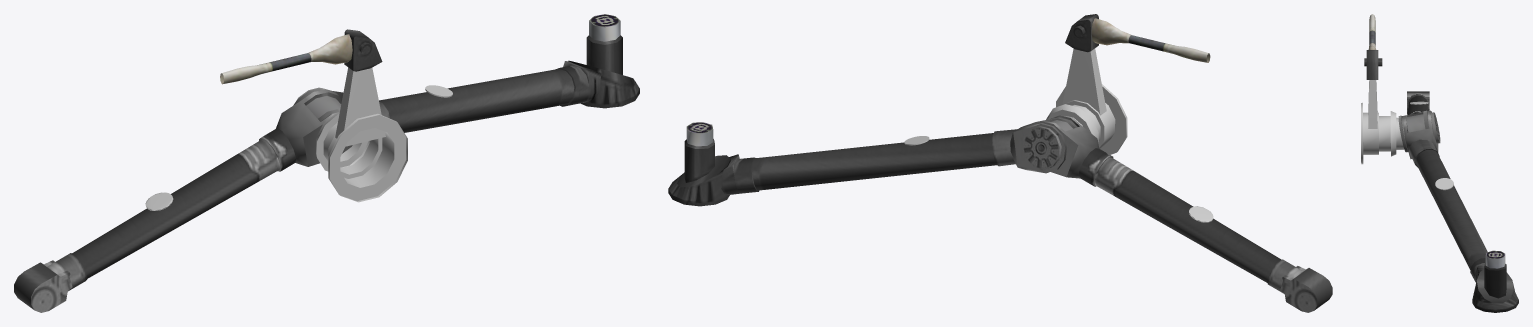
The model's file is Body_RockerLeft.dae.
3 renders of one model, left to right at view 1: azimuth 30°, elevation 25°; view 2: azimuth 150°, elevation 25°; view 3: azimuth 270°, elevation 25°, orthographic. The views are drawn at different scales.
Parts seen in each view (by area): view 1: suspension_arm_B_L, suspension_arm_F_L, suspension_axel_L, suspension_rod_L, suspension_axel_L2; view 2: suspension_arm_F_L, suspension_arm_B_L, suspension_axel_L, suspension_rod_L, suspension_axel_L2; view 3: suspension_arm_F_L, suspension_axel_L, suspension_arm_B_L, suspension_rod_L, suspension_axel_L2.
Part boxes in pixels (x1=…): suspension_arm_B_L: x1=14, y1=89, x2=352, y2=312; suspension_arm_F_L: x1=294, y1=14, x2=639, y2=132; suspension_axel_L: x1=316, y1=67, x2=407, y2=202; suspension_rod_L: x1=220, y1=29, x2=382, y2=84; suspension_axel_L2: x1=293, y1=87, x2=341, y2=118; suspension_arm_F_L: x1=668, y1=117, x2=1077, y2=206; suspension_arm_B_L: x1=1034, y1=115, x2=1332, y2=312; suspension_axel_L: x1=1046, y1=48, x2=1127, y2=154; suspension_rod_L: x1=1065, y1=14, x2=1210, y2=62; suspension_axel_L2: x1=1022, y1=120, x2=1072, y2=169; suspension_arm_F_L: x1=1402, y1=110, x2=1518, y2=312; suspension_axel_L: x1=1361, y1=80, x2=1404, y2=164; suspension_arm_B_L: x1=1398, y1=91, x2=1429, y2=152; suspension_rod_L: x1=1364, y1=14, x2=1382, y2=79; suspension_axel_L2: x1=1402, y1=112, x2=1440, y2=148.
Size of the model in its own units: 1.75 by 0.538 by 0.5726.
3 materials, 1 textured.
